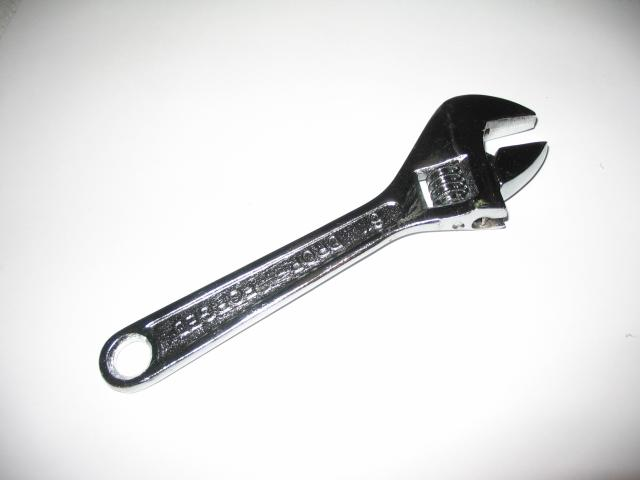Adjustable spanner: (99, 95, 548, 392)
